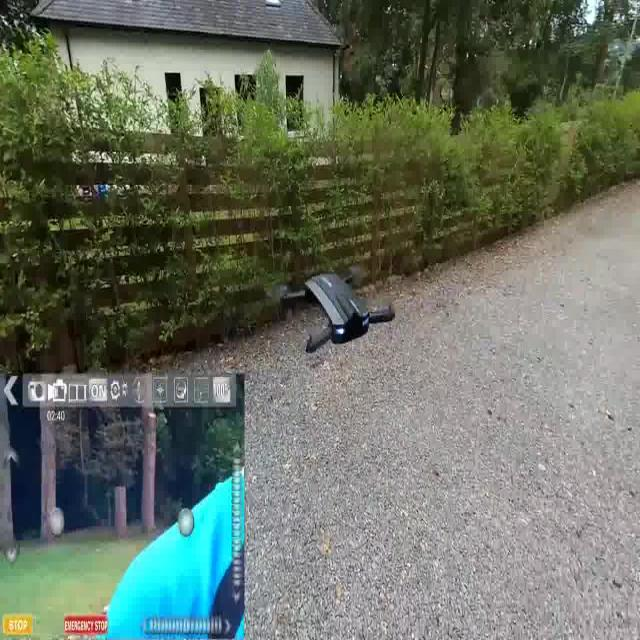drone: (266, 264, 398, 361)
